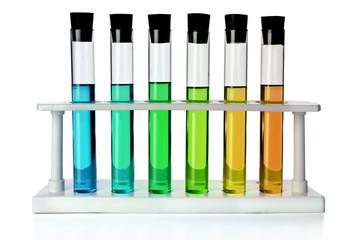Test tube: (62, 9, 103, 194), (183, 14, 216, 190), (258, 15, 288, 195), (222, 13, 250, 192), (108, 11, 136, 189), (147, 11, 171, 195)
